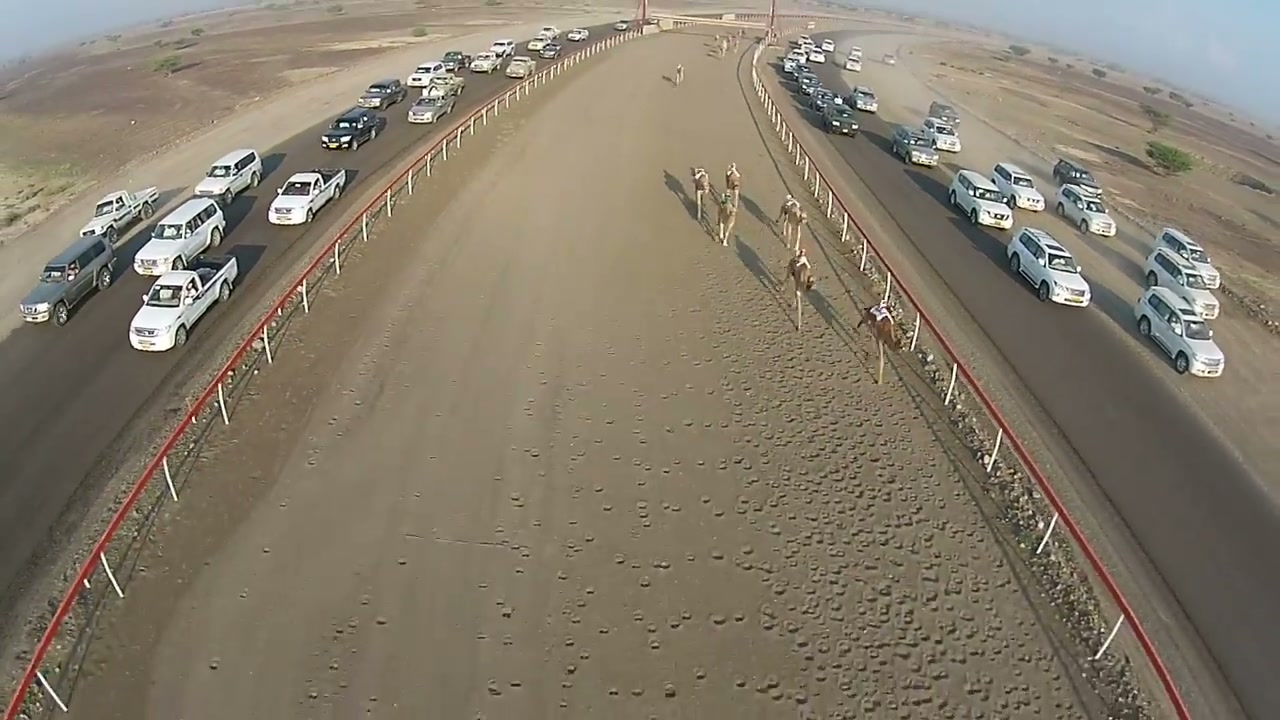animal_foot_print: (728, 289, 1071, 719), (491, 435, 780, 704)
